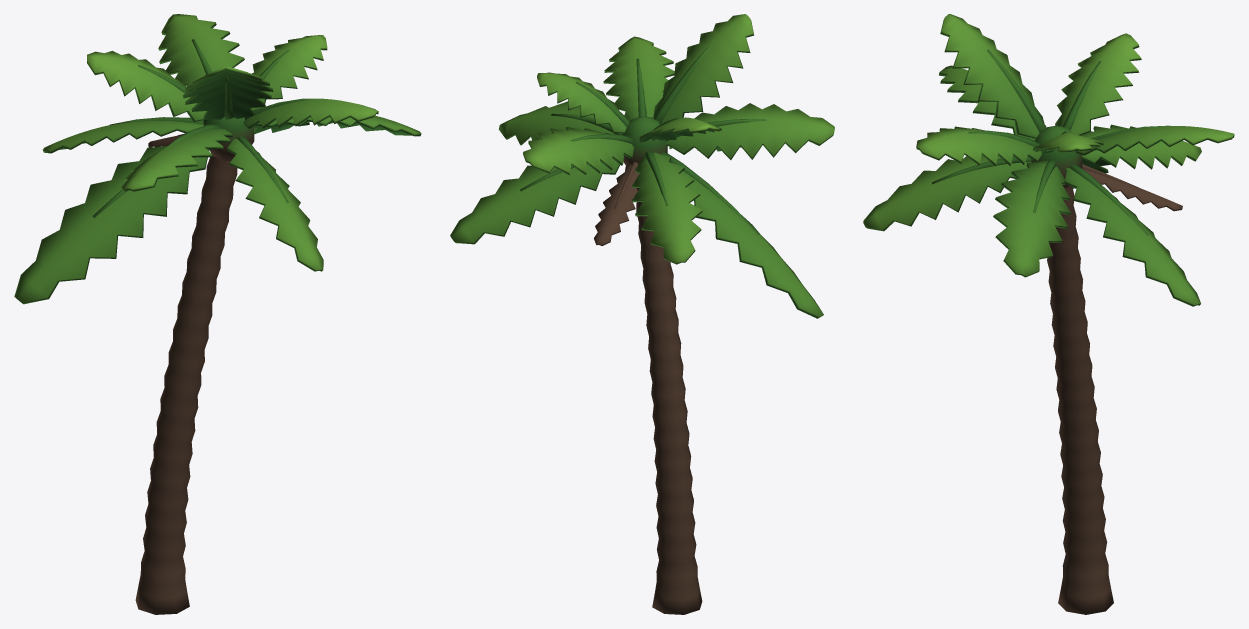
Rendered from fanpalm.lod0.glb.
3 renders of one model, left to right at view 1: azimuth 30°, elevation 25°; view 2: azimuth 150°, elevation 25°; view 3: azimuth 270°, elevation 25°, orthographic. The views are drawn at different scales.
Parts seen in each view (by area): view 1: fanpalm_s1_lod0; view 2: fanpalm_s1_lod0; view 3: fanpalm_s1_lod0.
Part boxes in pixels (bbox=[...]): fanpalm_s1_lod0: bbox=[14, 14, 421, 614]; fanpalm_s1_lod0: bbox=[450, 14, 834, 614]; fanpalm_s1_lod0: bbox=[863, 14, 1234, 614].
Size of the model in its own units: 6.58 by 9.84 by 5.65.
